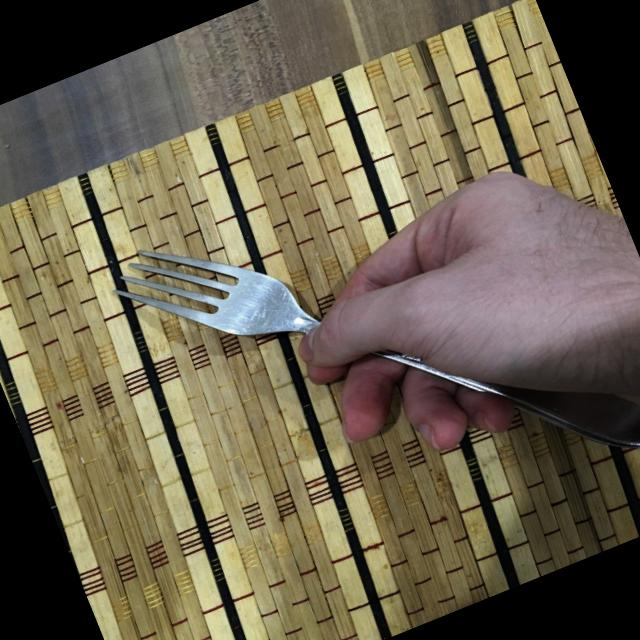fork: (98, 85, 640, 617)
